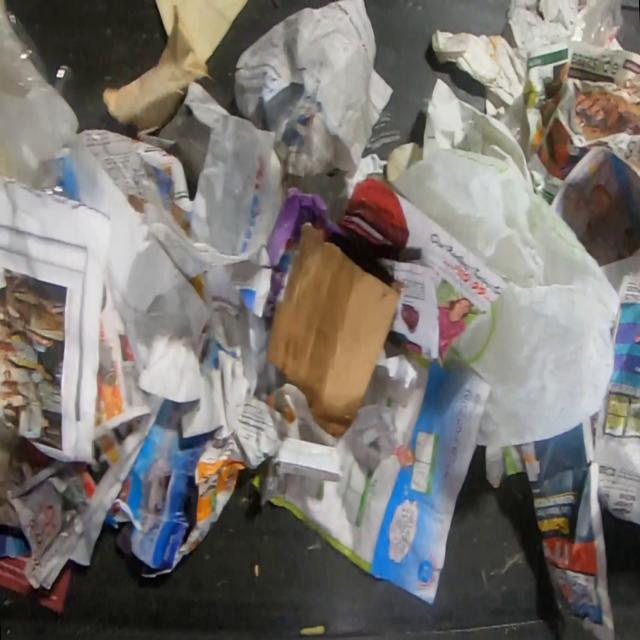cardboard: (267, 224, 410, 439)
soft_plastic: (389, 147, 623, 448), (0, 0, 82, 192), (569, 0, 625, 49)
